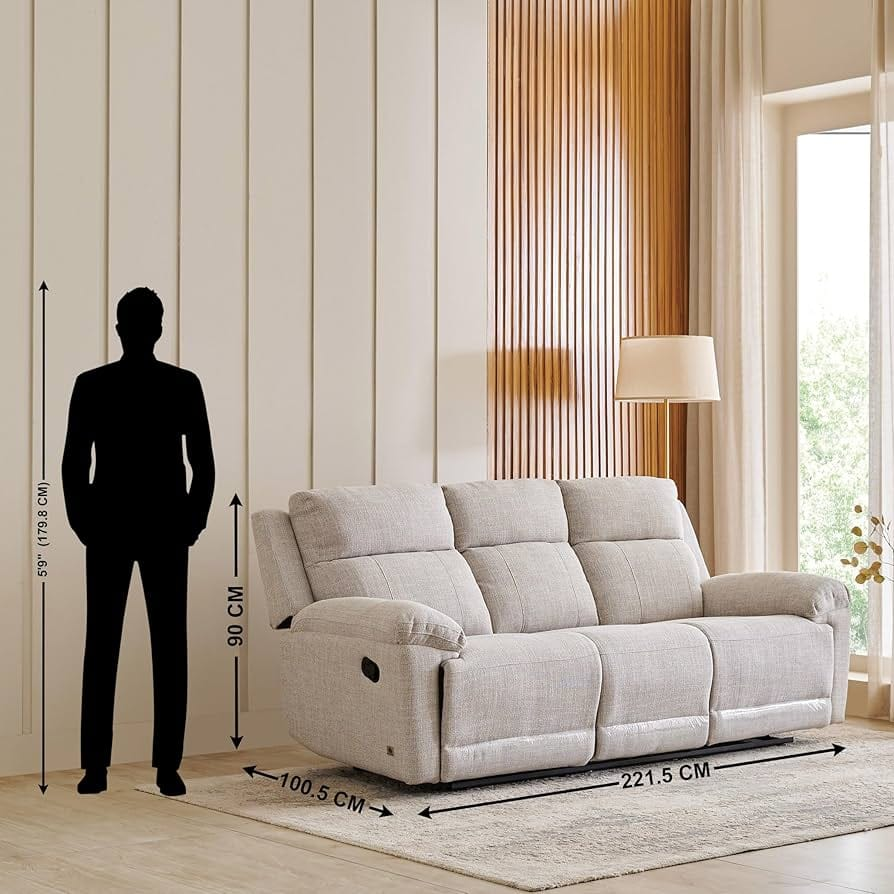3seatersofa: (254, 477, 849, 786)
backrest: (290, 476, 707, 634)
leftarmrest: (702, 572, 849, 719)
leg: (446, 737, 793, 789)
rightarmrest: (253, 510, 464, 782)
seat: (442, 618, 832, 778)
